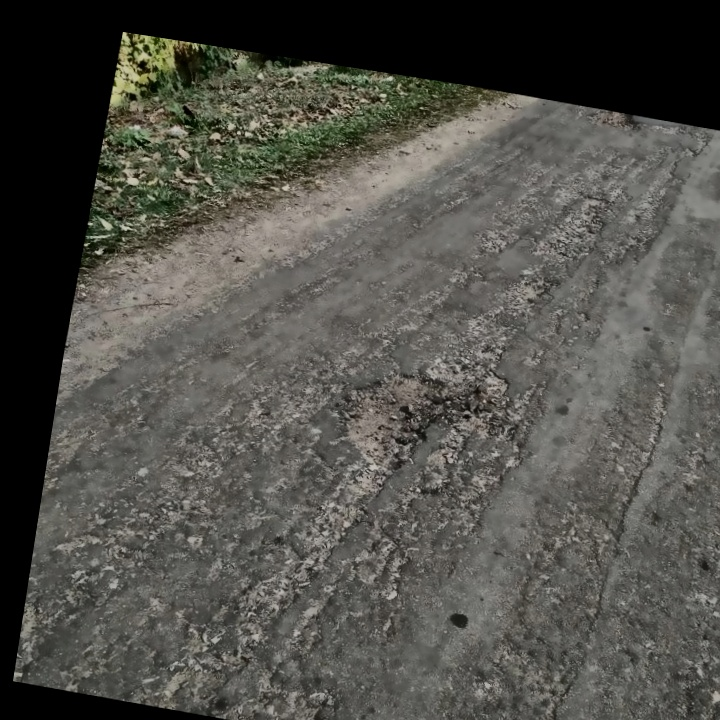pothole: (332, 359, 458, 482)
